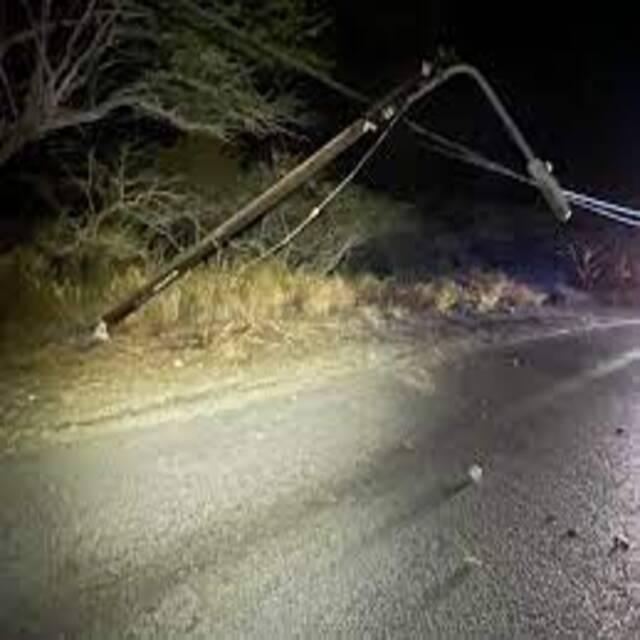Inclined Pole: (88, 47, 579, 329)
